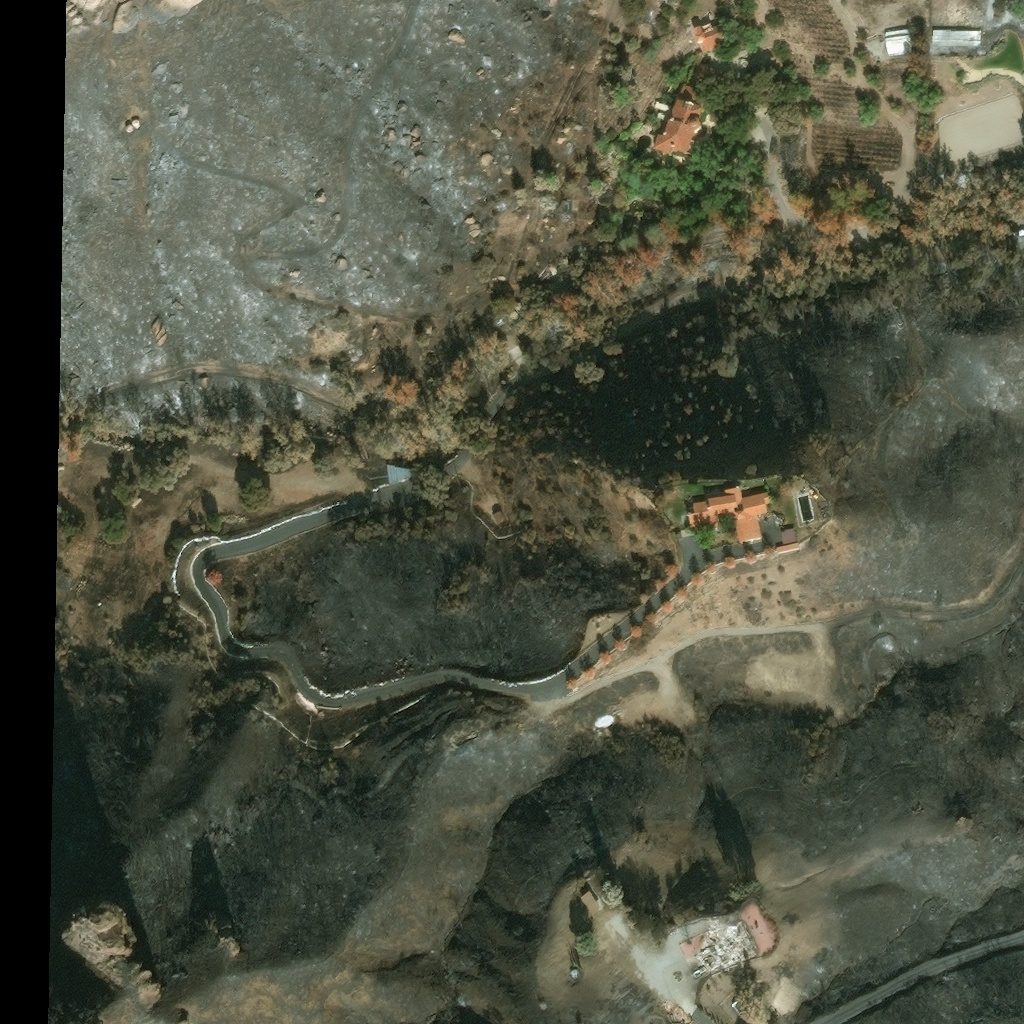0 no-damage: (686, 485, 777, 546), (654, 101, 706, 159), (688, 62, 736, 97), (690, 23, 733, 57), (677, 86, 711, 111), (582, 891, 602, 915), (781, 530, 796, 547), (494, 510, 505, 522)
1 minor-damage: (930, 31, 984, 50), (885, 29, 910, 58)
3 destroyed: (700, 919, 756, 971), (671, 1005, 688, 1021), (818, 508, 831, 523), (132, 122, 140, 130), (126, 127, 134, 135)
4 un-classified: (600, 176, 609, 186)
